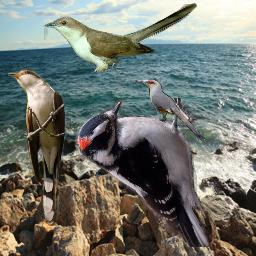Cuckoo: (44, 2, 197, 72), (8, 69, 66, 226), (135, 79, 206, 141)
Woodpecker: (75, 98, 211, 247)
